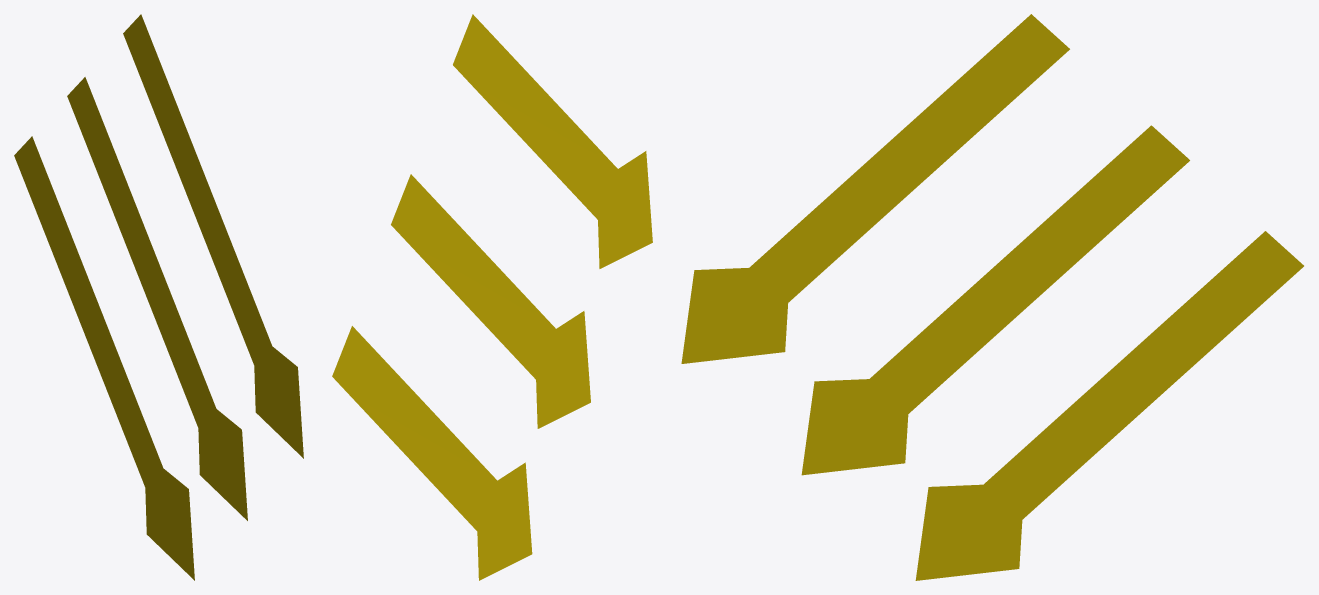
Rendered from wc_anim_3.fbx.
The picture shows the model from 3 angles, left to right: view 1: azimuth 30°, elevation 25°; view 2: azimuth 150°, elevation 25°; view 3: azimuth 270°, elevation 25°; orthographic projection. The views are drawn at different scales.
Parts seen in each view (by area): view 1: red_arrow22, red_arrow23, red_arrow24; view 2: red_arrow24, red_arrow22, red_arrow23; view 3: red_arrow23, red_arrow24, red_arrow22.
Part boxes in pixels (x1,y1,x2,y2): red_arrow22: (67,77,247,520); red_arrow23: (123,14,303,458); red_arrow24: (14,136,194,580); red_arrow24: (332,326,532,580); red_arrow22: (391,174,590,428); red_arrow23: (453,14,652,268); red_arrow23: (681,14,1069,363); red_arrow24: (915,231,1303,580); red_arrow22: (801,125,1189,475).
Bounding box in the file's own units: 9.39e-05 × 14.81 × 14.75.
